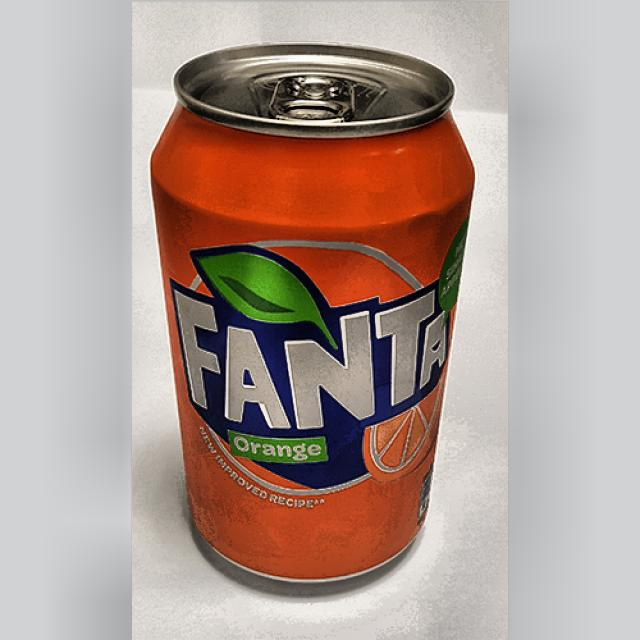Cans: (146, 33, 461, 598)
